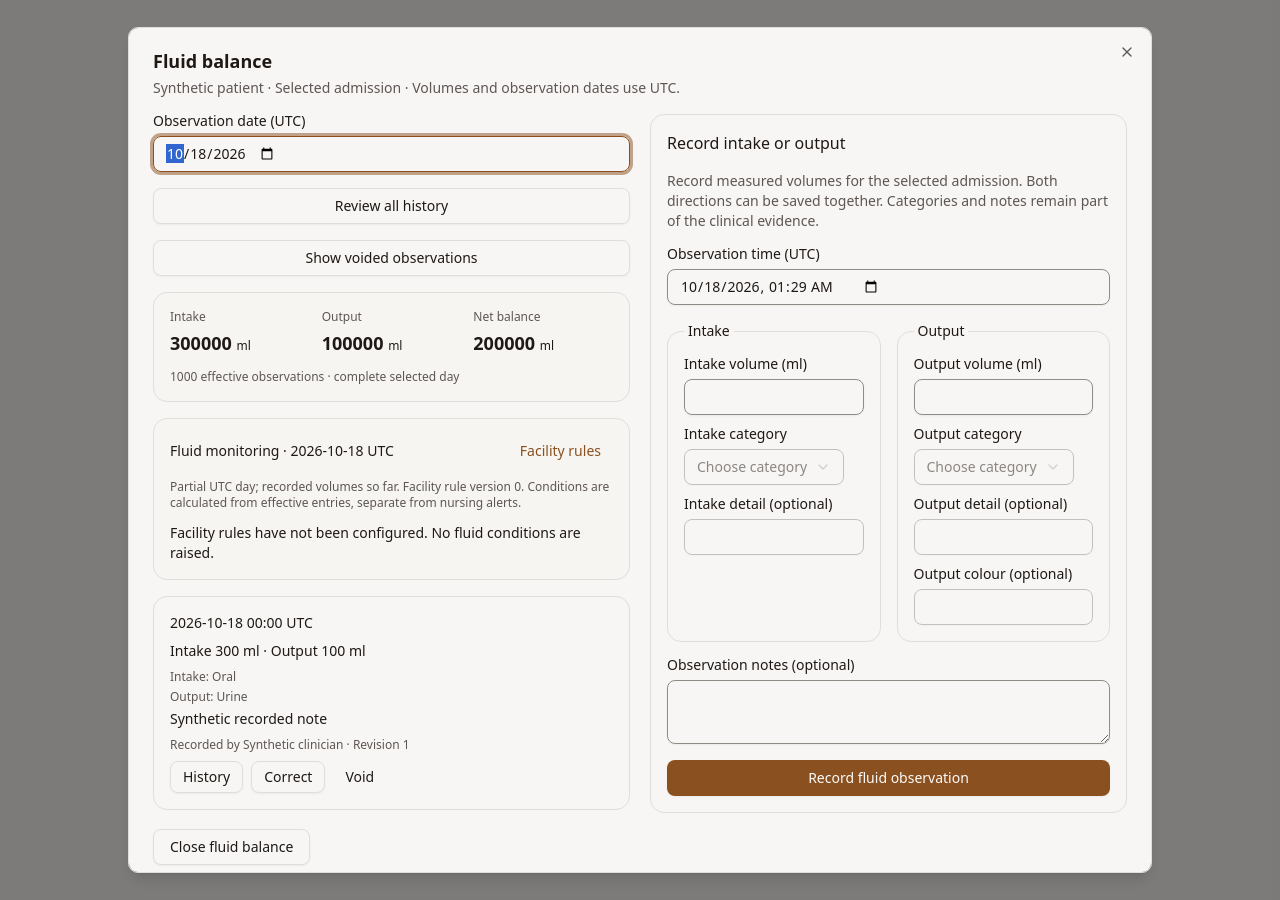
it: Chronicle immutable fluid workflow using real generated client › suppresses unread data and scopes open correction state to the patient/admission
Click the button "Correct" at (288, 777), box left=251, top=761, right=325, bottom=793
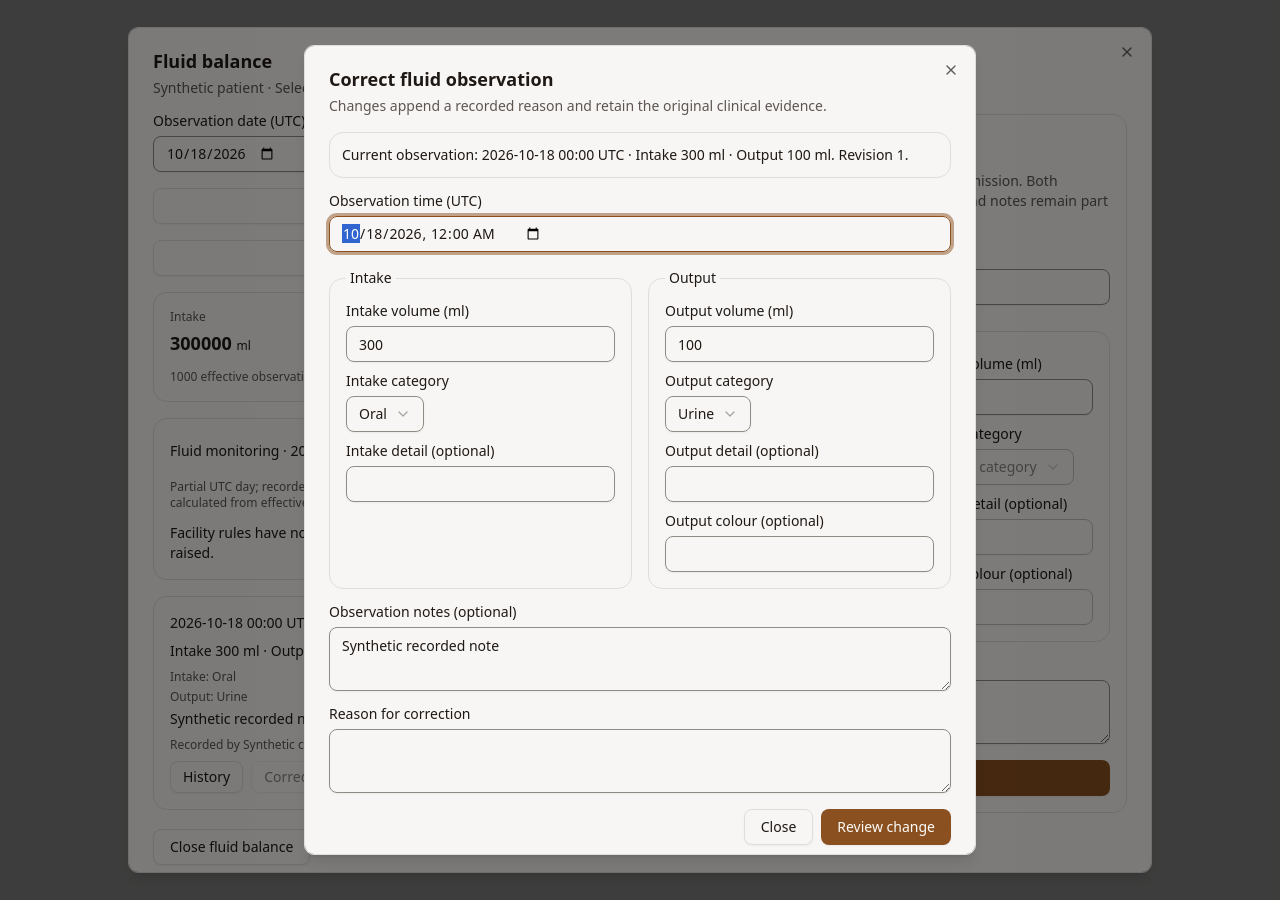
Result: the text box labelled "Reason for correction" is shown at left=329, top=729, right=951, bottom=793
